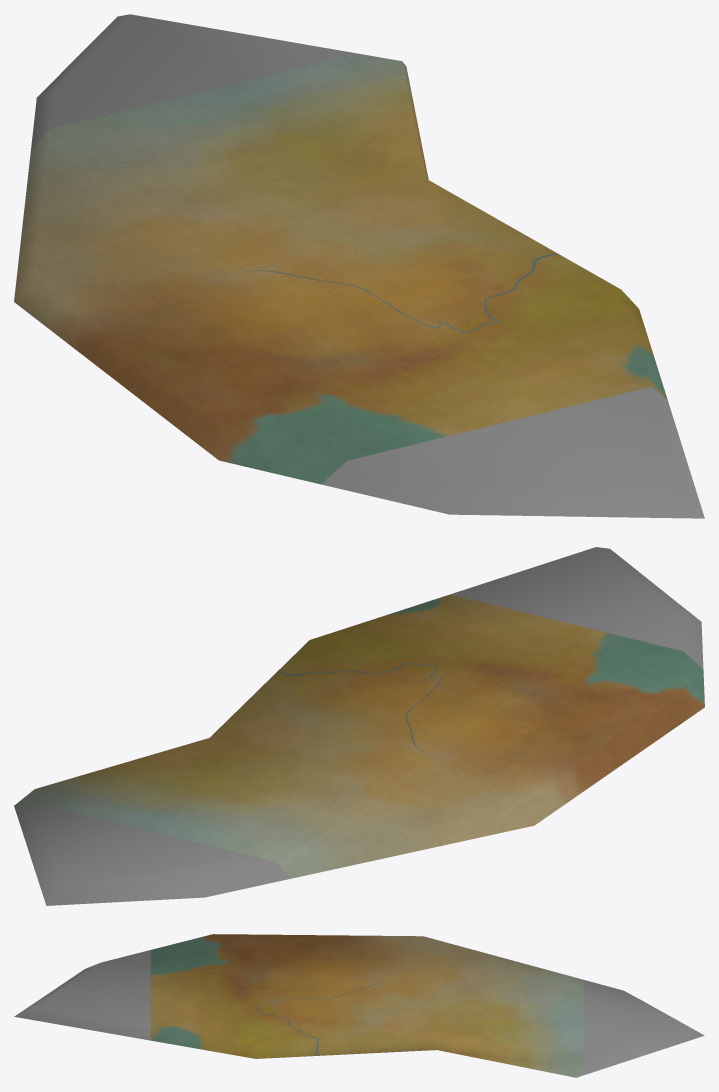
Rendered from taiwan.FBX.
The picture shows the model from 3 angles, top to bottom: view 1: azimuth 30°, elevation 25°; view 2: azimuth 150°, elevation 25°; view 3: azimuth 270°, elevation 25°; orthographic projection. The views are drawn at different scales.
Parts seen in each view (by area): view 1: 对象002; view 2: 对象002; view 3: 对象002.
Boxes of the visible parts, x1=… form: 对象002: x1=14, y1=14, x2=704, y2=518; 对象002: x1=14, y1=547, x2=704, y2=905; 对象002: x1=14, y1=934, x2=704, y2=1077.
Bounding box in the file's own units: 2.51 × 0.0763 × 5.29.
